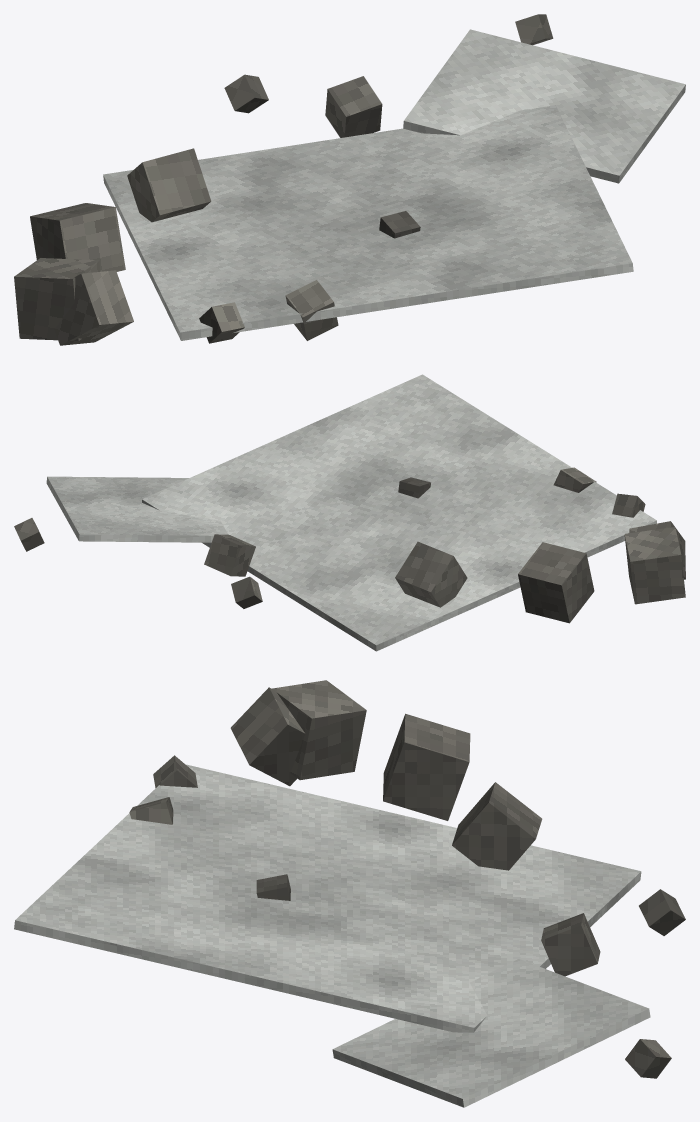
File: Lab_CeilingTile.fbx
The picture shows the model from 3 angles, top to bottom: view 1: azimuth 30°, elevation 25°; view 2: azimuth 150°, elevation 25°; view 3: azimuth 270°, elevation 25°; orthographic projection. The views are drawn at different scales.
Visible parts, largest first — view 1: Lab_CeilingTile; view 2: Lab_CeilingTile; view 3: Lab_CeilingTile.
Part boxes in pixels (x1=…): Lab_CeilingTile: x1=14, y1=14, x2=685, y2=345; Lab_CeilingTile: x1=14, y1=374, x2=685, y2=651; Lab_CeilingTile: x1=14, y1=680, x2=685, y2=1107.
Size of the model in its own units: 1.11 by 0.1221 by 0.8204.
